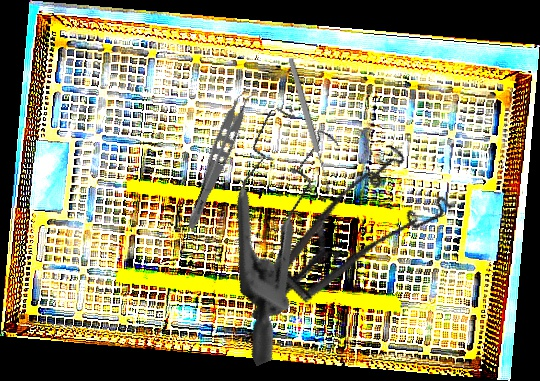Speculum: (166, 91, 406, 367), (248, 120, 466, 373)
Surgical Spoon: (286, 57, 333, 193)
Tissue Forceps: (183, 84, 259, 235)
